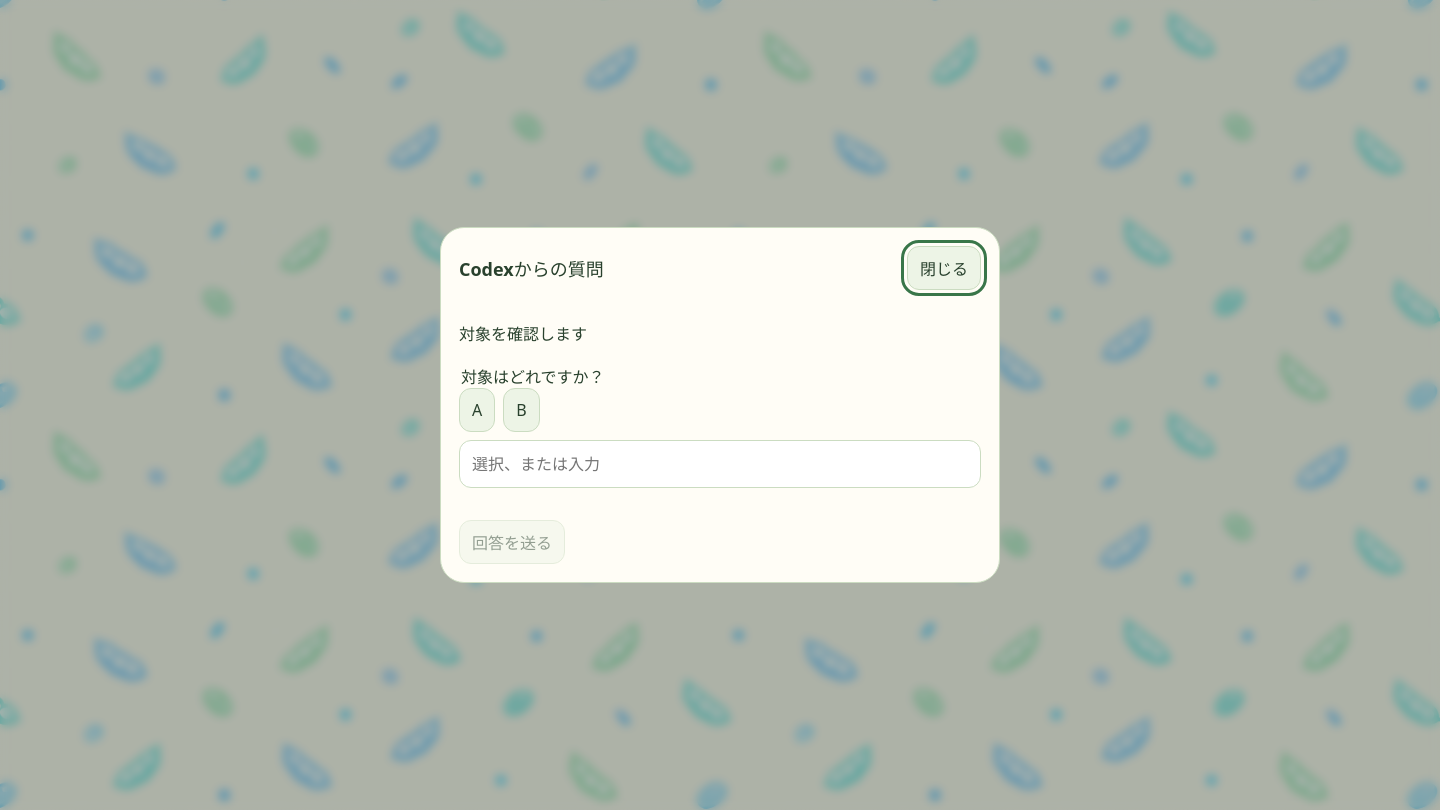
Test: Codex confirmation › retains an answer after a connection failure for retry
Step 1. Type "自由入力" into the field named "対象はどれですか？" → (720, 464), box top-left (459, 440), bottom-right (981, 488)
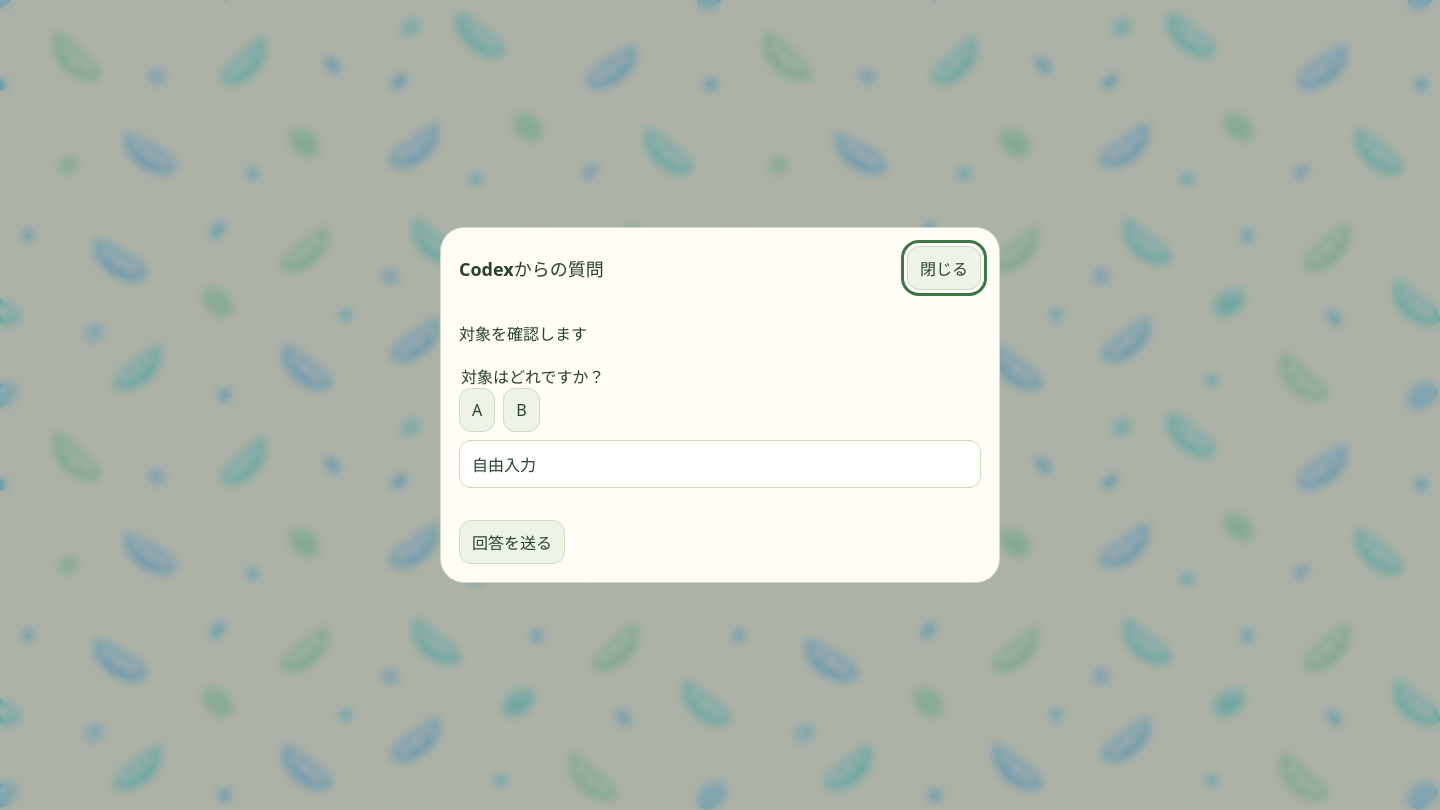
Step 2. Click the button "回答を送る" → click(512, 542), box top-left (459, 520), bottom-right (565, 564)
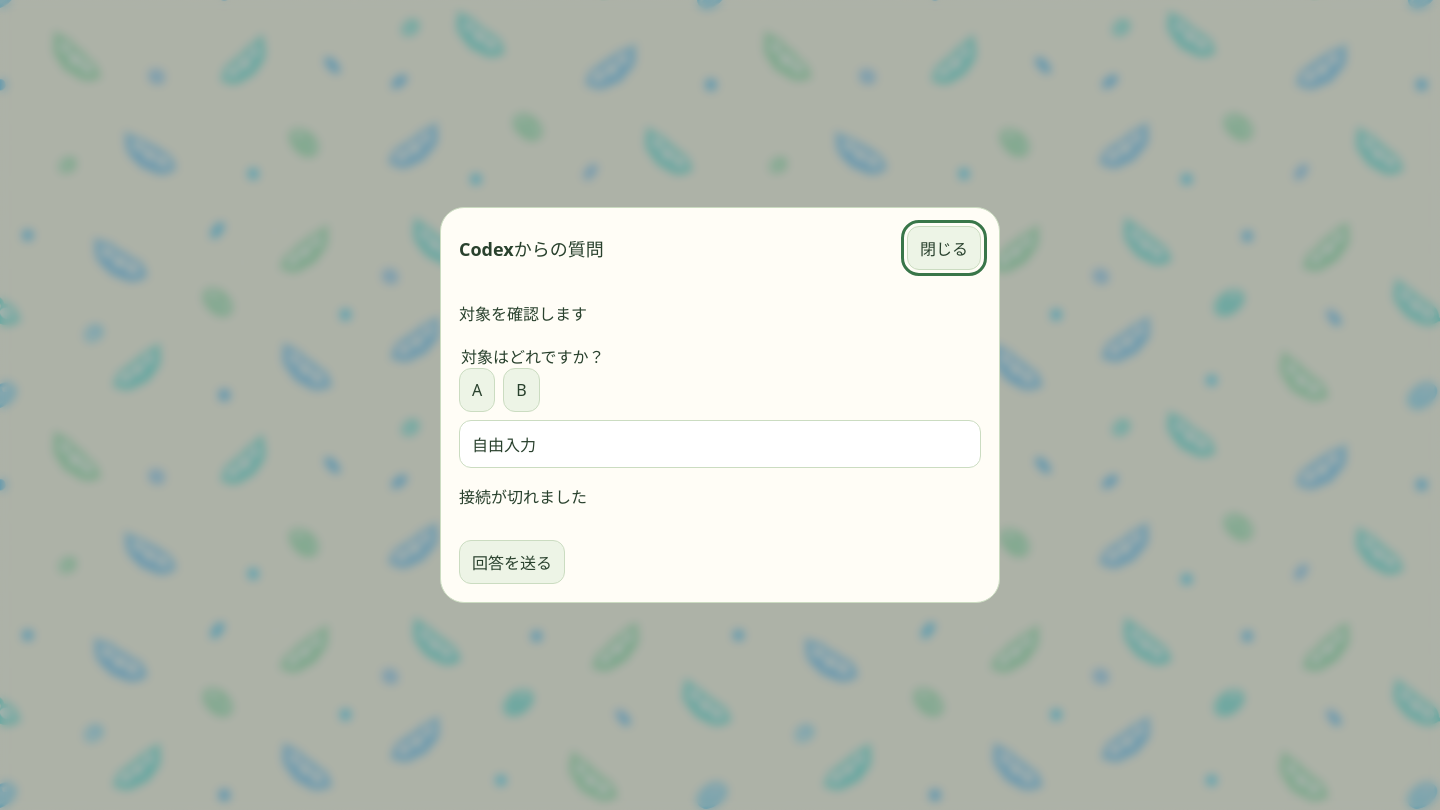
Check: the message reads "接続が切れました", box top-left (459, 486), bottom-right (587, 508)
